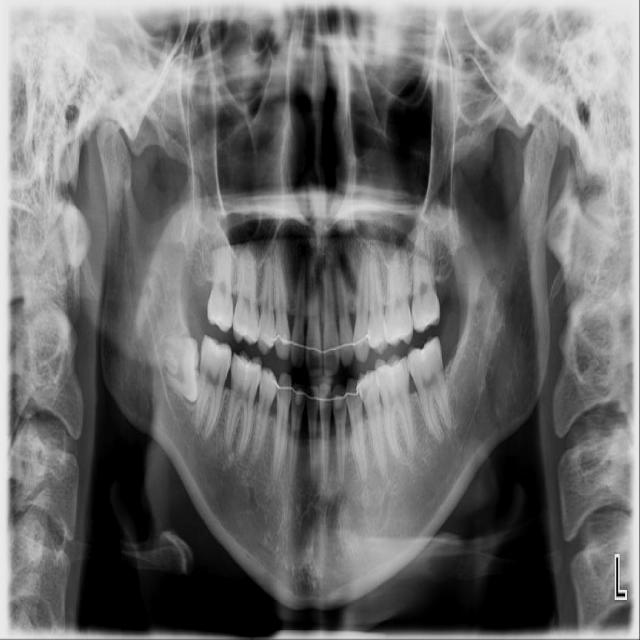Filling: (236, 358, 259, 384)
impacted tooth: (151, 336, 199, 403)
